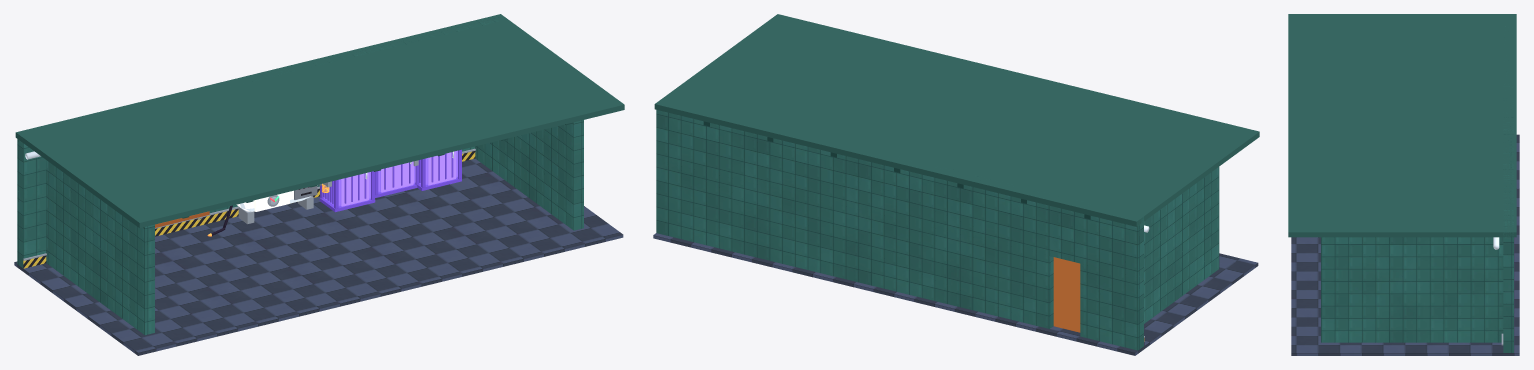
Rendered from labor.glb.
The picture shows the model from 3 angles, left to right: view 1: azimuth 30°, elevation 25°; view 2: azimuth 150°, elevation 25°; view 3: azimuth 270°, elevation 25°; orthographic projection. The views are drawn at different scales.
Visible parts, largest first — view 1: L2_Decke.001, L2_Boden.001, L2_Seitenwand-1.001, L2_Seitenwand1.001, L2_Wand.001, L2_Schraffur1.001, L2L_KloTuer.001, L2H_KloTuer.001, L2_KloTuer.001; view 2: L2_Decke.001, L2_Wand.001, L2_Seitenwand-1.001, L2_Boden.001, L2_TuerBlatt.001; view 3: L2_Decke.001, L2_Seitenwand1.001, L2_Boden.001, L2_Wand.001.
Part boxes in pixels (bbox=[...]): L2_Decke.001: bbox=[15, 14, 624, 228]; L2_Boden.001: bbox=[14, 158, 623, 355]; L2_Seitenwand-1.001: bbox=[46, 160, 154, 335]; L2_Seitenwand1.001: bbox=[475, 120, 583, 230]; L2_Wand.001: bbox=[17, 16, 507, 268]; L2_Schraffur1.001: bbox=[155, 151, 475, 236]; L2L_KloTuer.001: bbox=[340, 172, 369, 206]; L2H_KloTuer.001: bbox=[427, 151, 456, 185]; L2_KloTuer.001: bbox=[380, 161, 413, 192]; L2_Decke.001: bbox=[654, 14, 1259, 226]; L2_Wand.001: bbox=[656, 110, 1143, 350]; L2_Seitenwand-1.001: bbox=[1144, 167, 1219, 323]; L2_Boden.001: bbox=[653, 233, 1258, 355]; L2_TuerBlatt.001: bbox=[1053, 257, 1080, 332]; L2_Decke.001: bbox=[1288, 14, 1516, 237]; L2_Seitenwand1.001: bbox=[1321, 237, 1503, 342]; L2_Boden.001: bbox=[1291, 134, 1519, 355]; L2_Wand.001: bbox=[1503, 26, 1513, 352].
Size of the model in its own units: 19 by 5.02 by 8.5.
72 materials, 4 textured.
